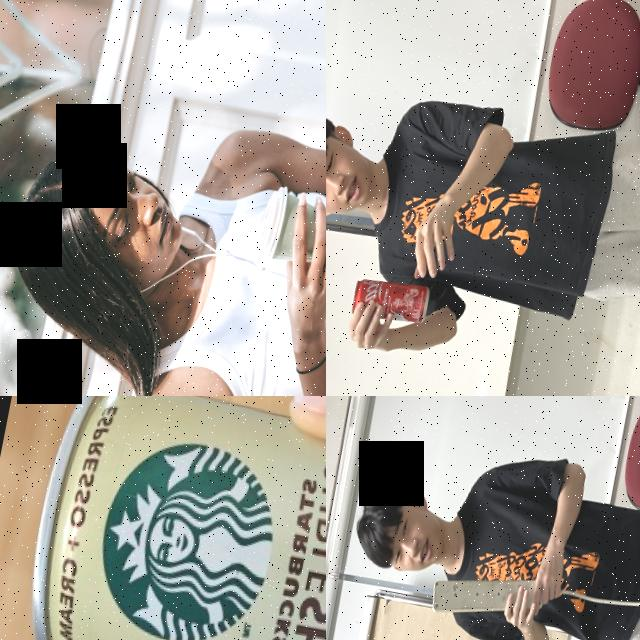can: (14, 396, 326, 640), (349, 271, 433, 329)
cup: (252, 180, 326, 276)
